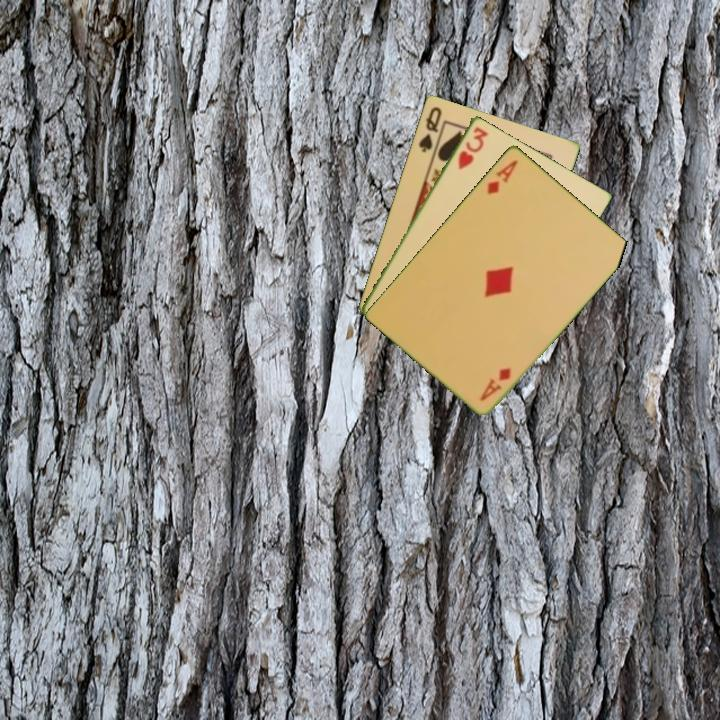3h: (454, 123, 491, 172)
Ad: (483, 155, 521, 197), (476, 363, 514, 404)
Qs: (415, 103, 445, 155)
